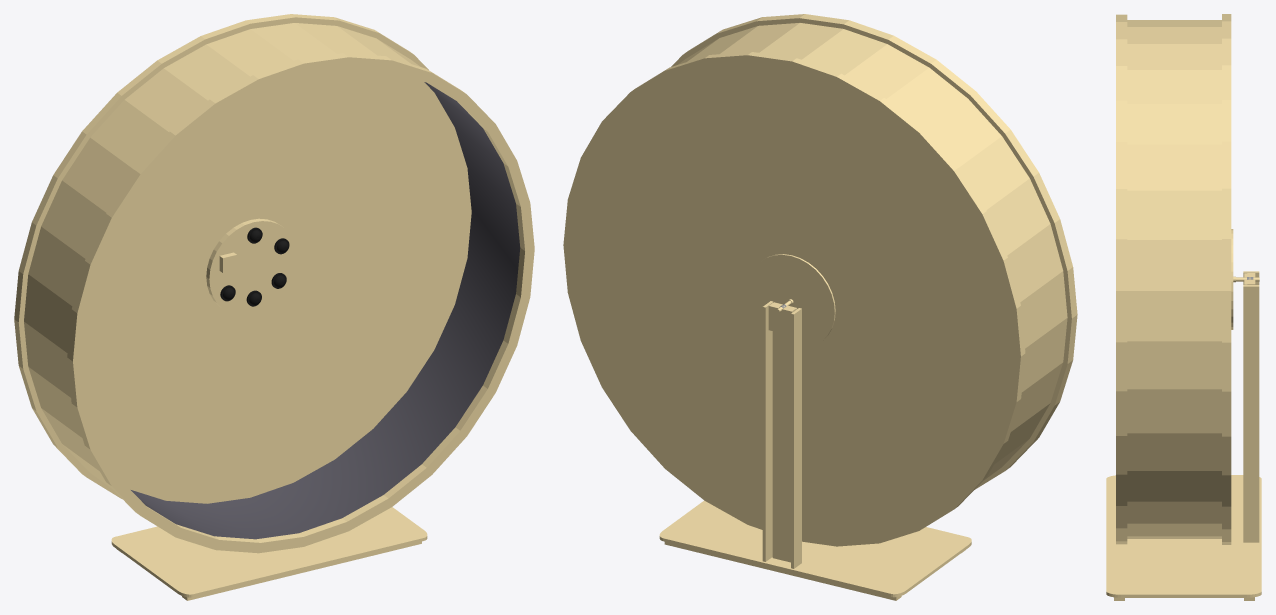
File: CatWheelforUnity2.fbx
3 renders of one model, left to right at view 1: azimuth 30°, elevation 25°; view 2: azimuth 150°, elevation 25°; view 3: azimuth 270°, elevation 25°, orthographic.
Visible parts, largest first — view 1: Cat1.001, Float1.001, Float2.001; view 2: Cat1.001, Float1.001, Base4.001, Base2.001, Base3.001, Float2.001; view 3: Cat1.001, Float1.001, Base3.001.
Part boxes in pixels (x1,y1,x2,y2): Cat1.001: [14, 14, 534, 553]; Float1.001: [111, 507, 427, 597]; Float2.001: [117, 541, 421, 600]; Cat1.001: [563, 14, 1077, 546]; Float1.001: [659, 500, 971, 597]; Base4.001: [772, 302, 797, 562]; Base2.001: [791, 308, 801, 568]; Base3.001: [762, 301, 773, 561]; Float2.001: [664, 542, 965, 600]; Cat1.001: [1116, 14, 1259, 544]; Float1.001: [1106, 475, 1261, 597]; Base3.001: [1243, 285, 1259, 542].
Bounding box in the file's own units: 3951 × 4146 × 1157.
